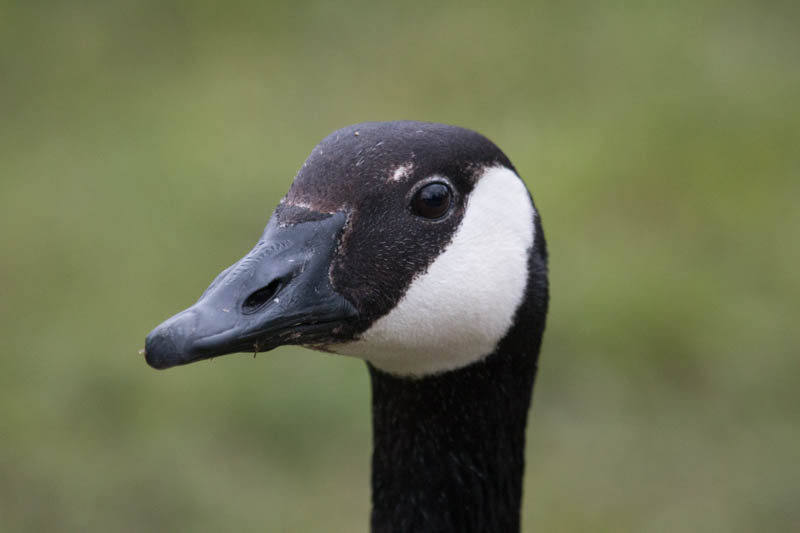goose-head: (144, 124, 549, 380)
